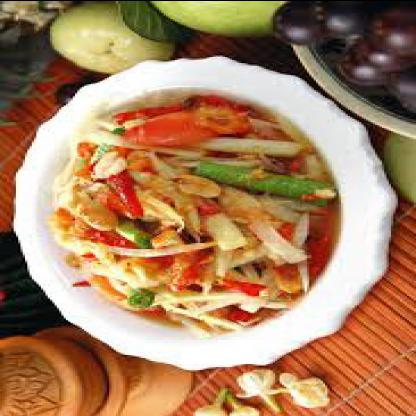Papaya Salad: (41, 87, 332, 344)
